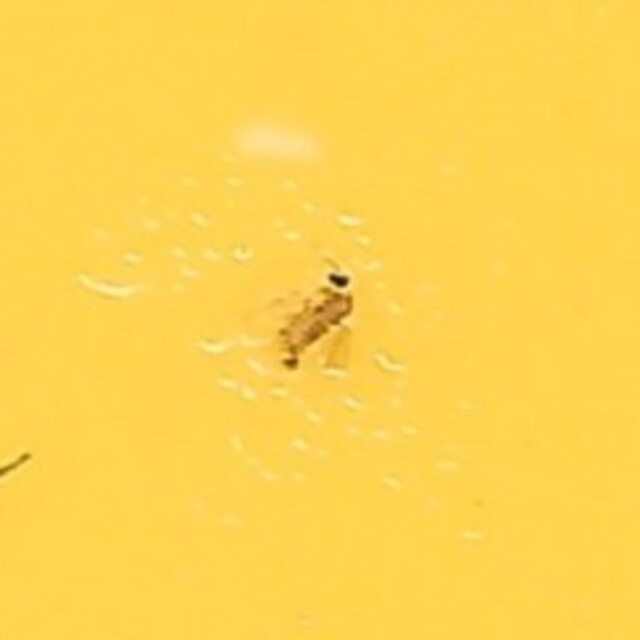Nematocera: (263, 248, 377, 392)
